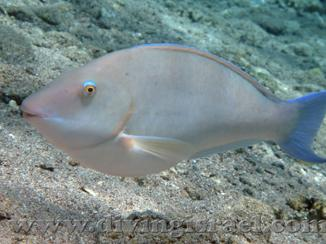Scaridae -Parrotfishes-: (15, 28, 326, 193)
